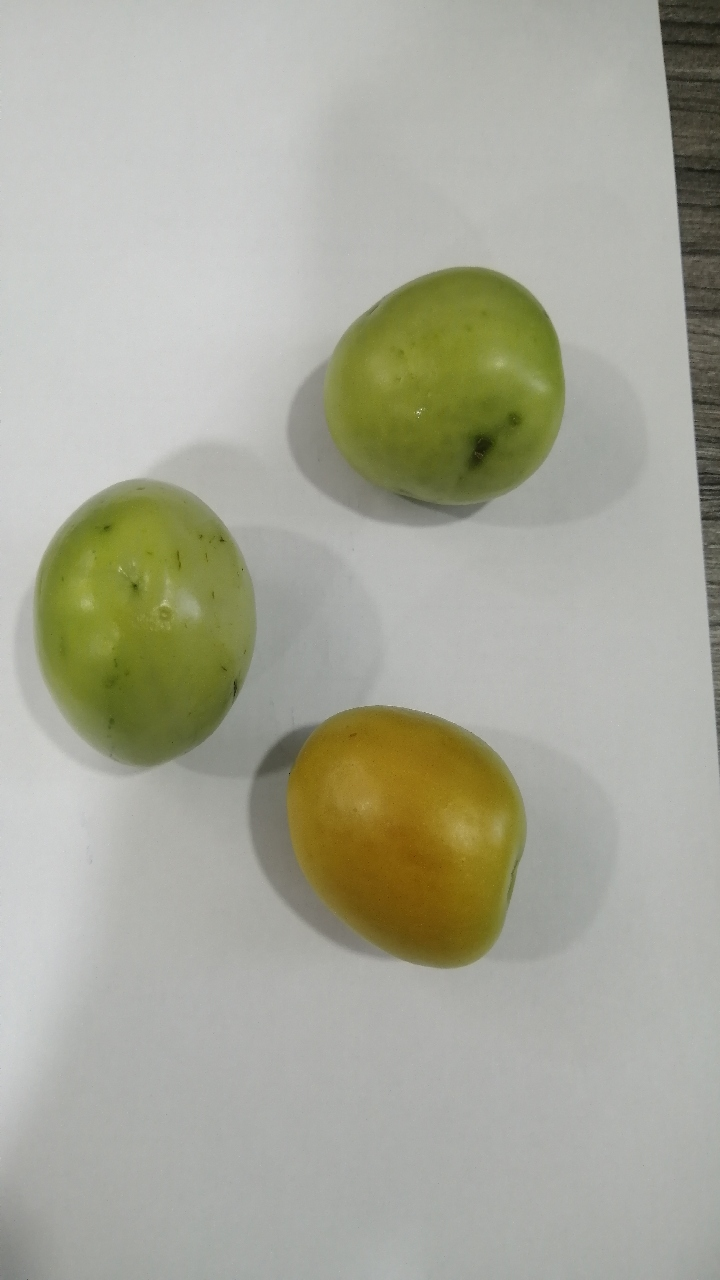tomateVerde: (21, 452, 272, 783), (301, 242, 581, 532), (252, 689, 529, 975)
